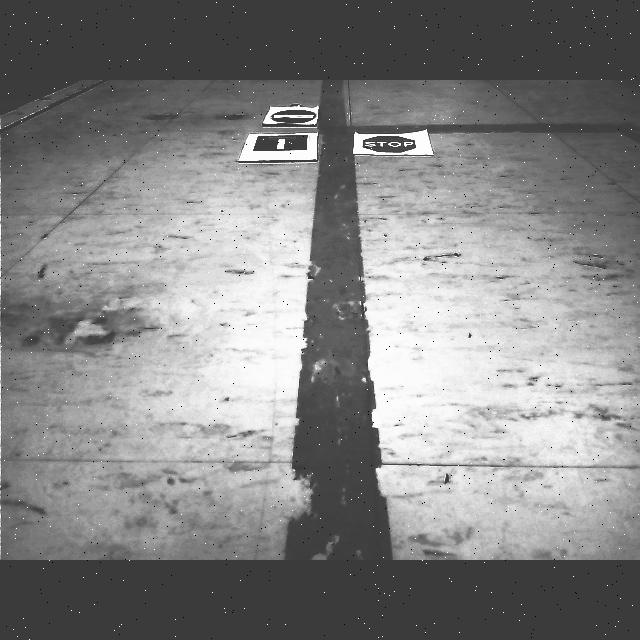DEAD END: (253, 134, 309, 151)
NO ENTRY: (271, 109, 315, 123)
STOP: (362, 136, 416, 153)
